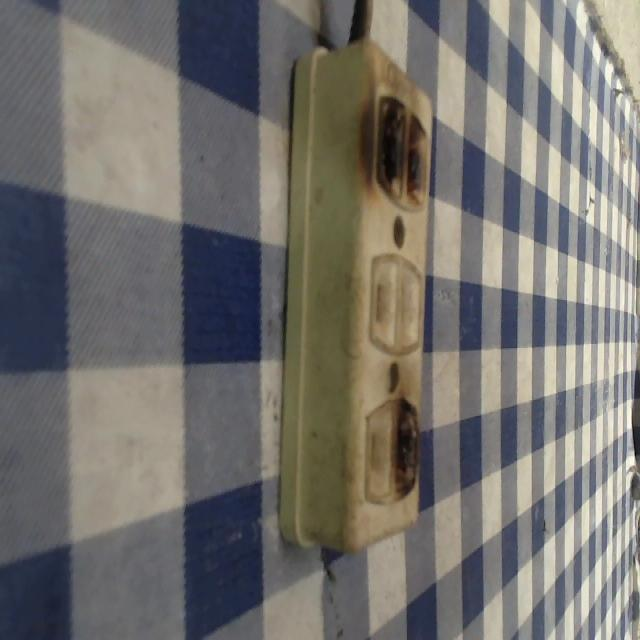-: (357, 81, 430, 215), (385, 389, 423, 499)
